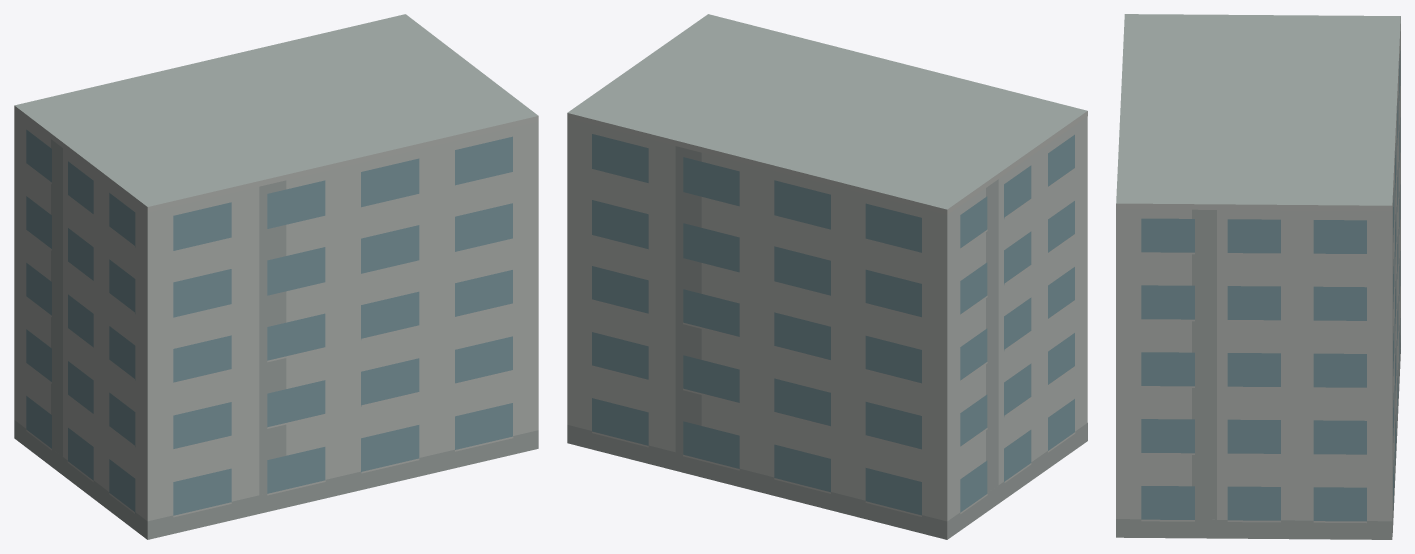
File: survey-upis-32840580.glb
3 renders of one model, left to right at view 1: azimuth 30°, elevation 25°; view 2: azimuth 150°, elevation 25°; view 3: azimuth 270°, elevation 25°, orthographic.
Visible parts, largest first — view 1: survey-upis-32840580.tmp; view 2: survey-upis-32840580.tmp; view 3: survey-upis-32840580.tmp.
Boxes of the visible parts, x1,y1,x2,y2 form: survey-upis-32840580.tmp: (14, 14, 538, 539); survey-upis-32840580.tmp: (567, 14, 1087, 539); survey-upis-32840580.tmp: (1116, 14, 1400, 539).
Size of the model in its own units: 17.73 by 14.4 by 11.13.
